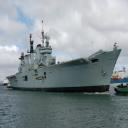Portanaves: (6, 21, 124, 96)
